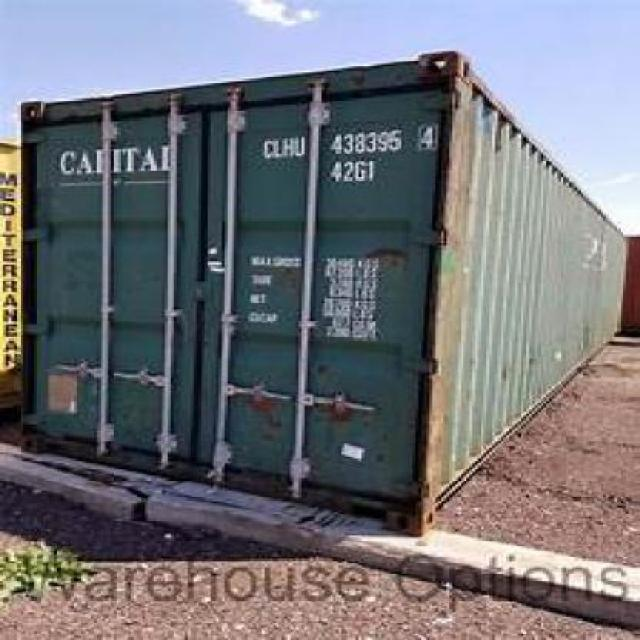ISO: (325, 159, 375, 183)
container_number: (260, 120, 430, 156)
